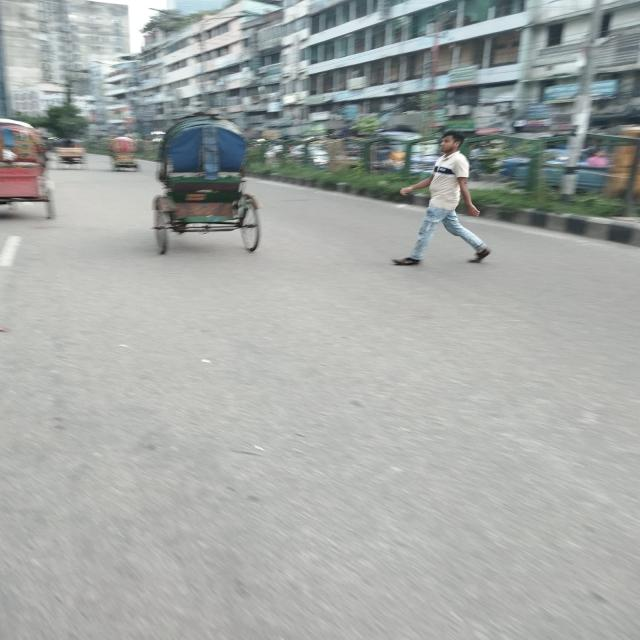person: (392, 131, 491, 266)
